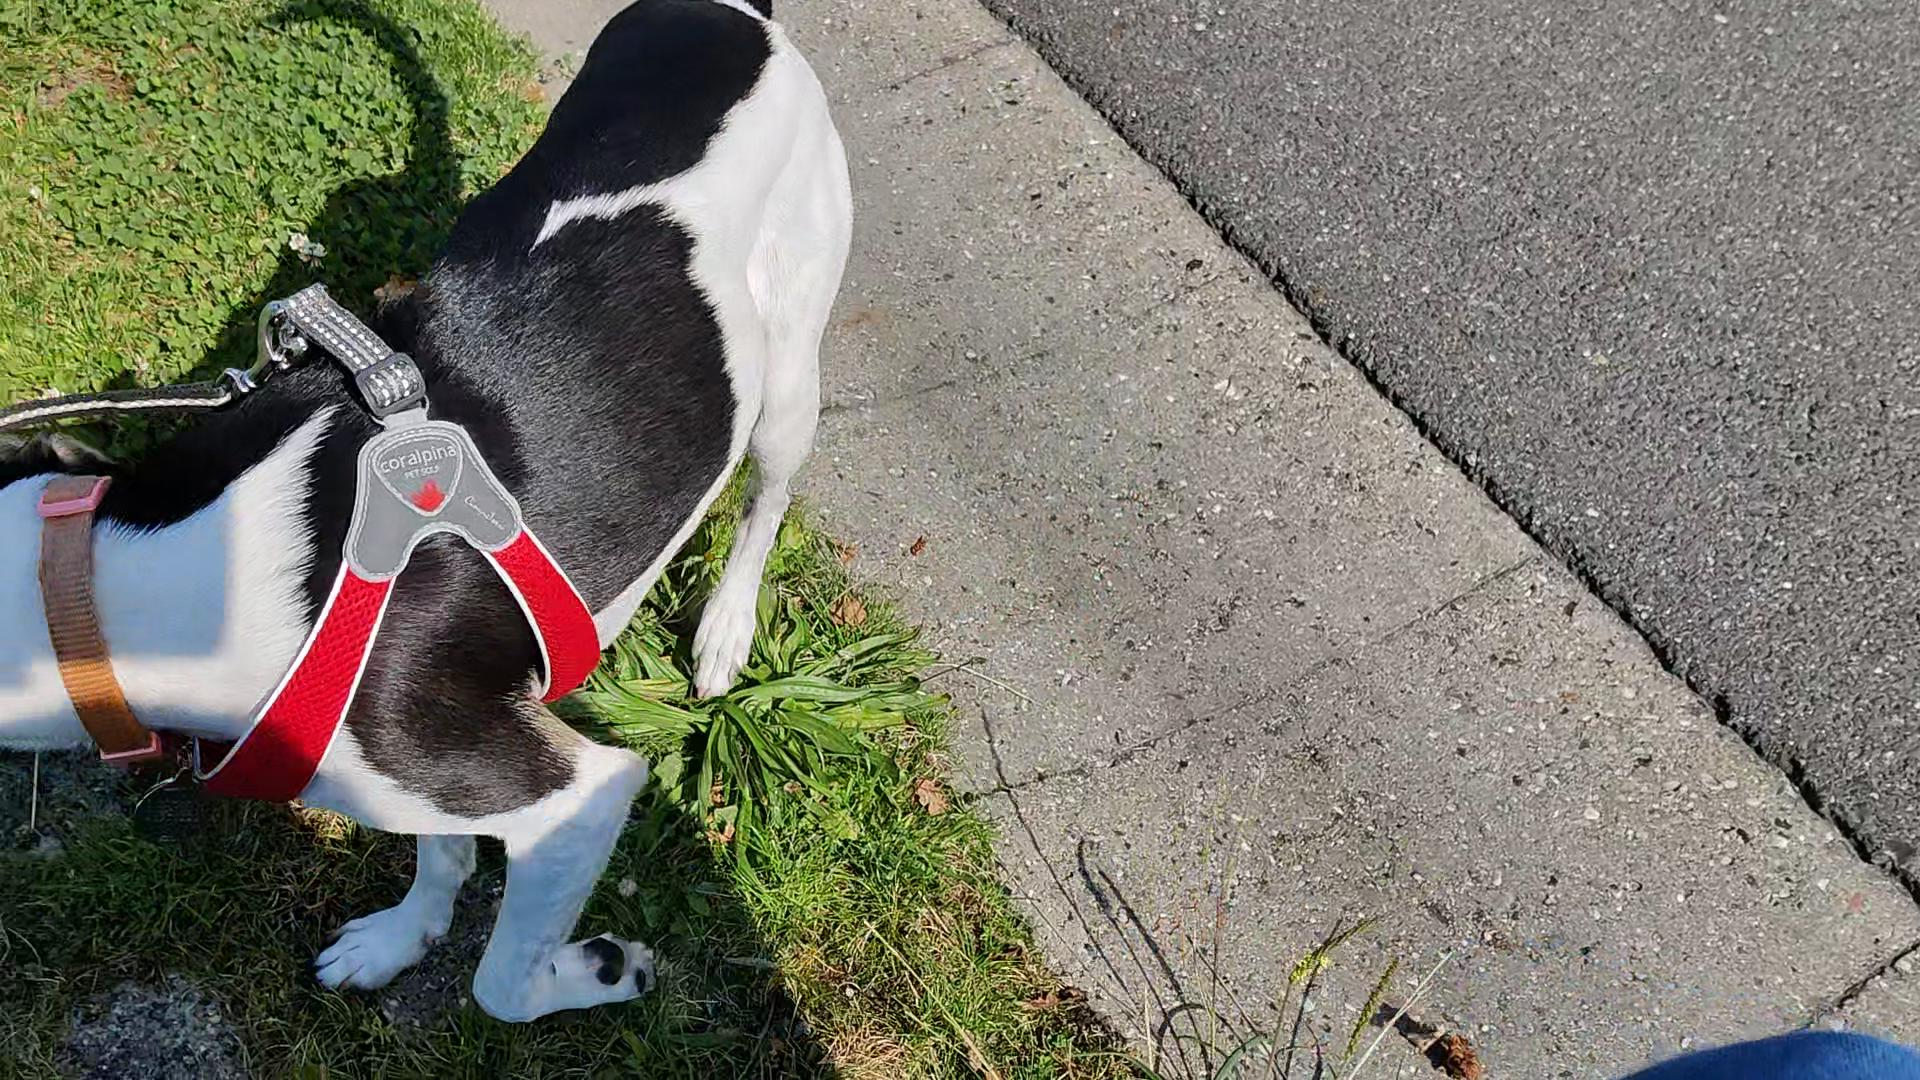Dog: (0, 0, 872, 1033)
